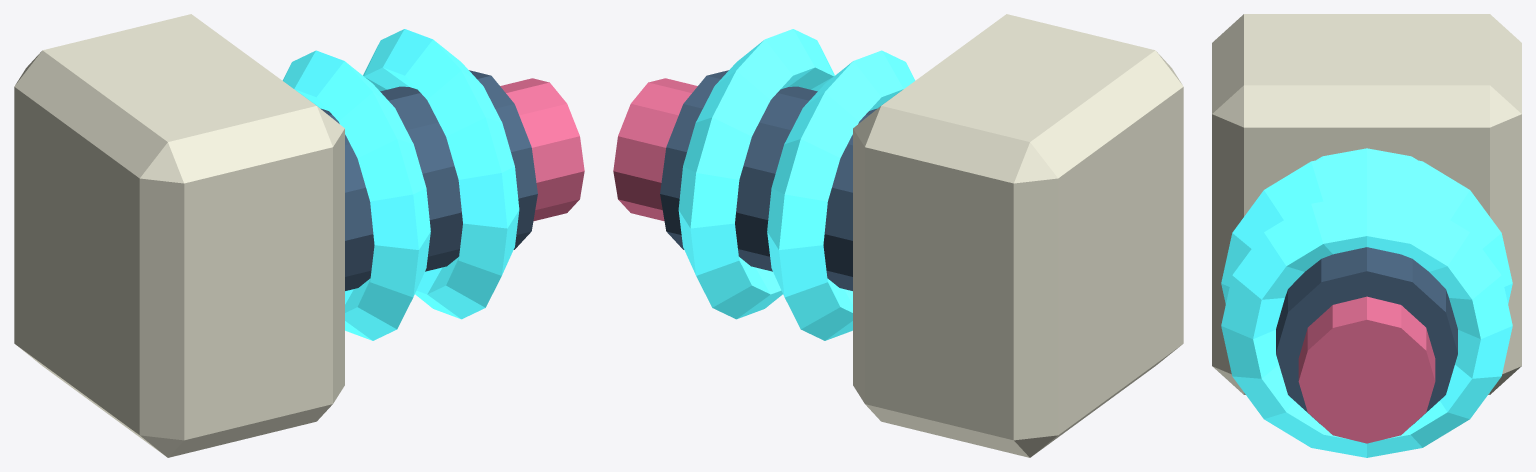
The model's file is tachyon_lance.glb.
The picture shows the model from 3 angles, left to right: view 1: azimuth 30°, elevation 25°; view 2: azimuth 150°, elevation 25°; view 3: azimuth 270°, elevation 25°; orthographic projection.
Visible parts, largest first — view 1: Lance base, Focus coil.002, Focus coil.001, Energy barrel, Lance tip; view 2: Lance base, Focus coil.002, Focus coil.001, Energy barrel, Lance tip; view 3: Lance base, Focus coil.002, Lance tip, Focus coil.001, Energy barrel, Focus coil.
Boxes of the visible parts, <box> form: Lance base: <box>14,14,344,457</box>; Focus coil.002: <box>363,29,519,319</box>; Focus coil.001: <box>282,50,430,340</box>; Energy barrel: <box>321,70,537,290</box>; Lance tip: <box>500,78,584,221</box>; Lance base: <box>853,14,1183,457</box>; Focus coil.002: <box>678,29,834,319</box>; Focus coil.001: <box>767,50,915,340</box>; Energy barrel: <box>660,70,876,290</box>; Lance tip: <box>613,78,697,221</box>; Lance base: <box>1212,14,1521,394</box>; Focus coil.002: <box>1221,193,1512,457</box>; Lance tip: <box>1298,296,1435,443</box>; Focus coil.001: <box>1221,151,1512,304</box>; Energy barrel: <box>1276,247,1457,423</box>; Focus coil: <box>1316,148,1417,160</box>.
Size of the model in its own units: 1.17 by 0.75 by 0.68.
